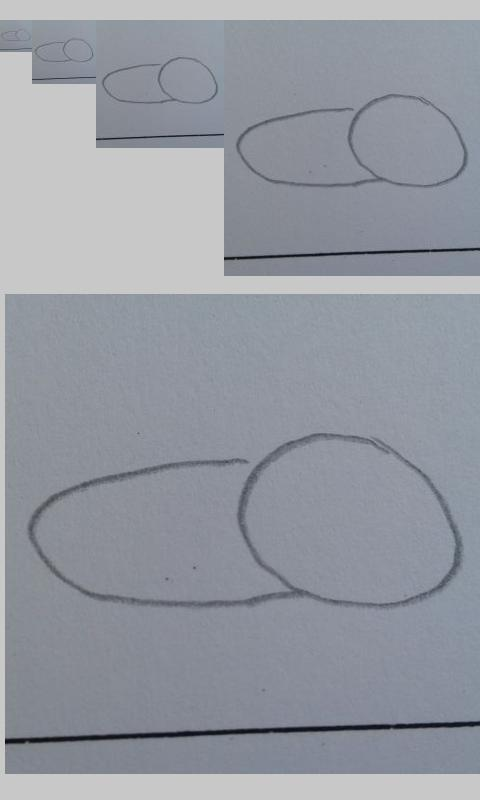switch: (25, 432, 467, 610), (234, 91, 468, 190), (101, 56, 218, 105), (34, 37, 94, 63), (2, 28, 31, 42)
